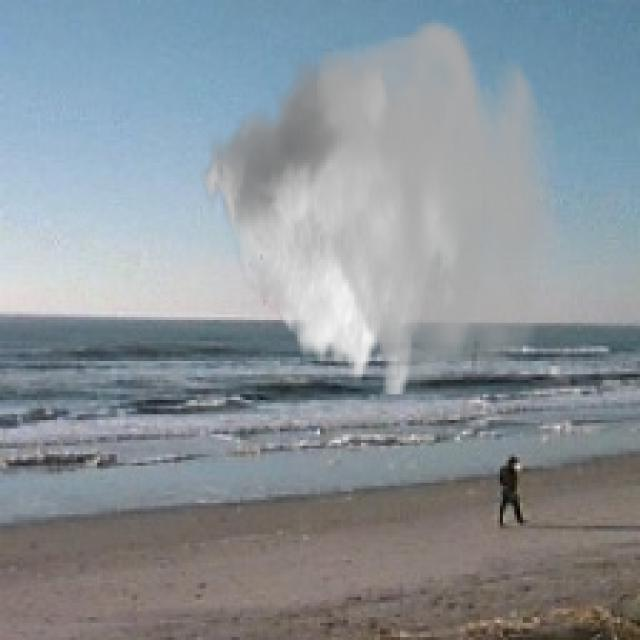Smoke: (200, 14, 563, 394)
